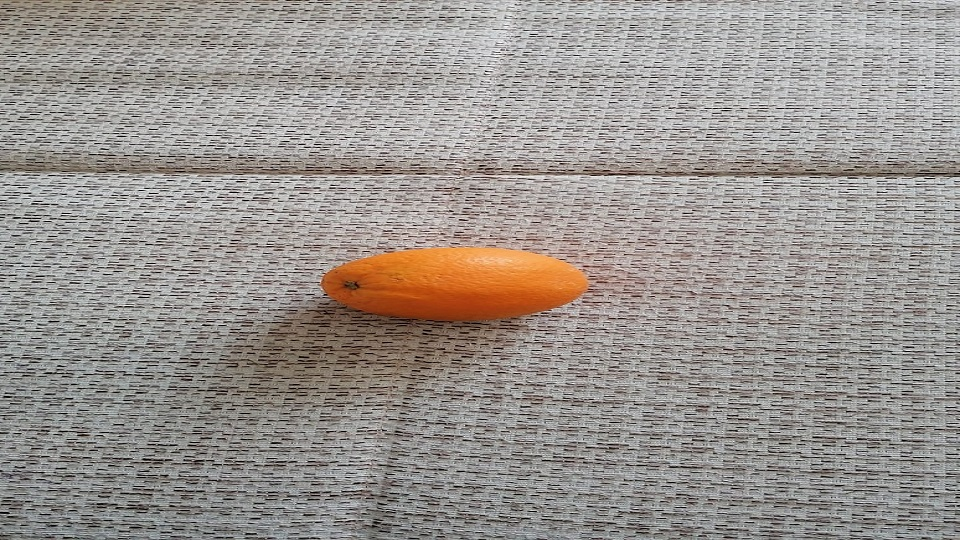portakal: (319, 246, 591, 324)
